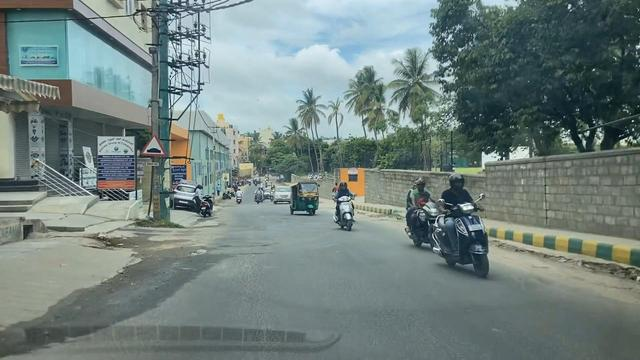LMV: (289, 179, 325, 223)
RoadDamages: (156, 243, 250, 285)
